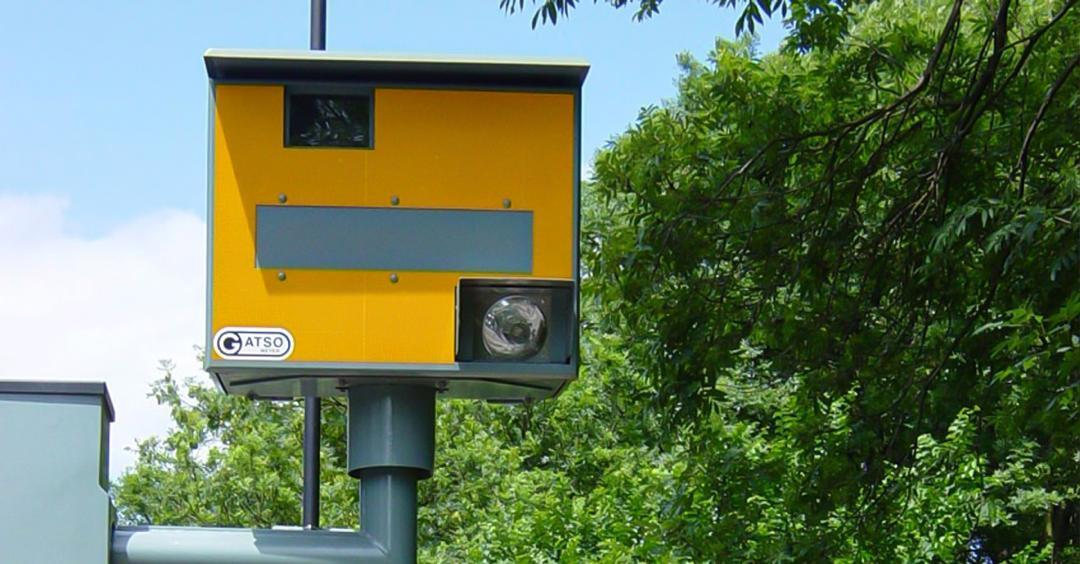Speed-Camera: (187, 24, 604, 401)
